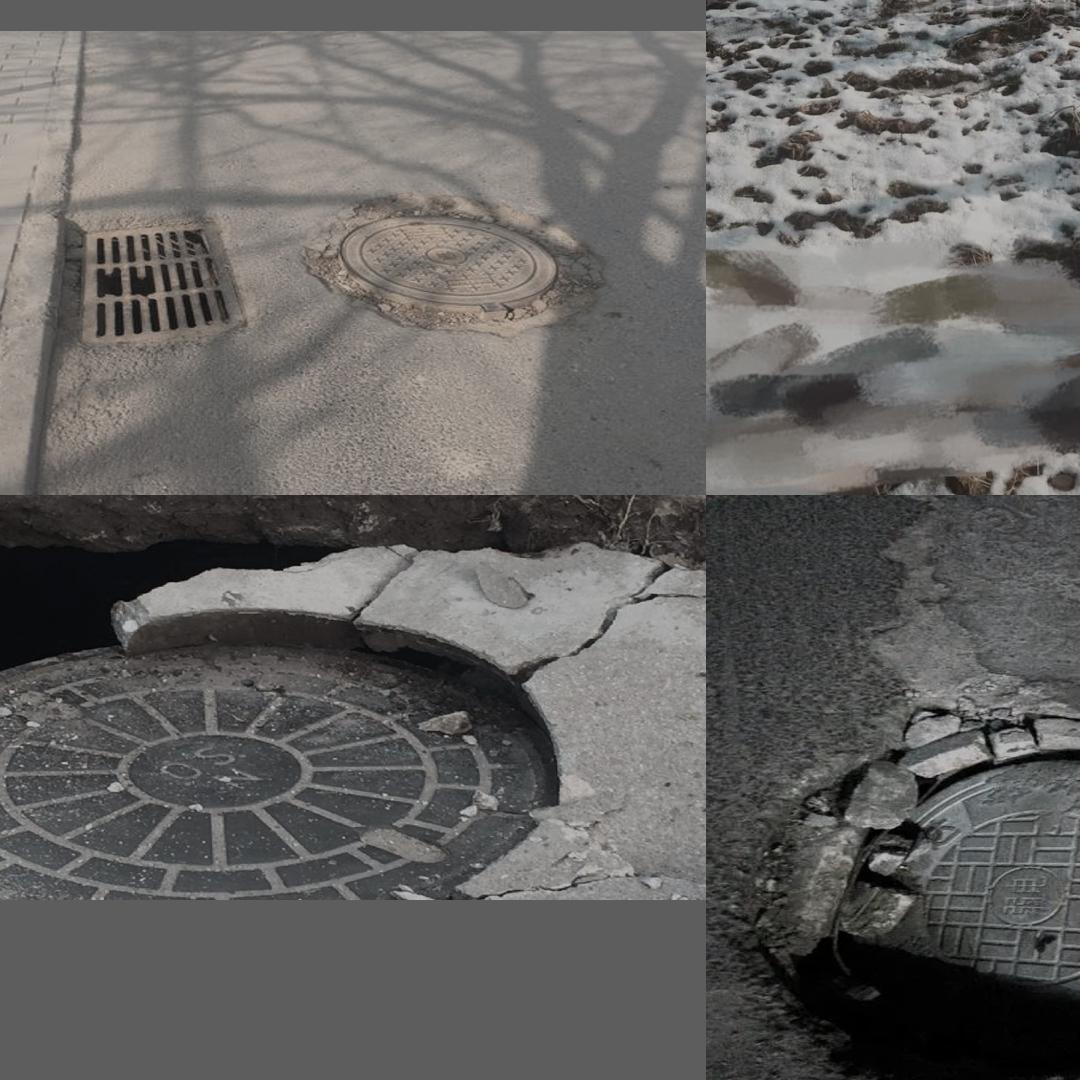circle: (0, 510, 695, 895), (729, 714, 1080, 1080), (292, 181, 605, 342)
